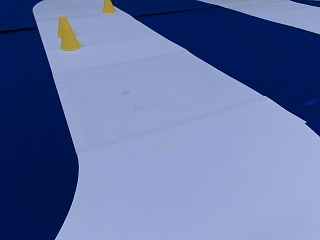cone: (56, 17, 81, 49), (101, 0, 114, 12)
